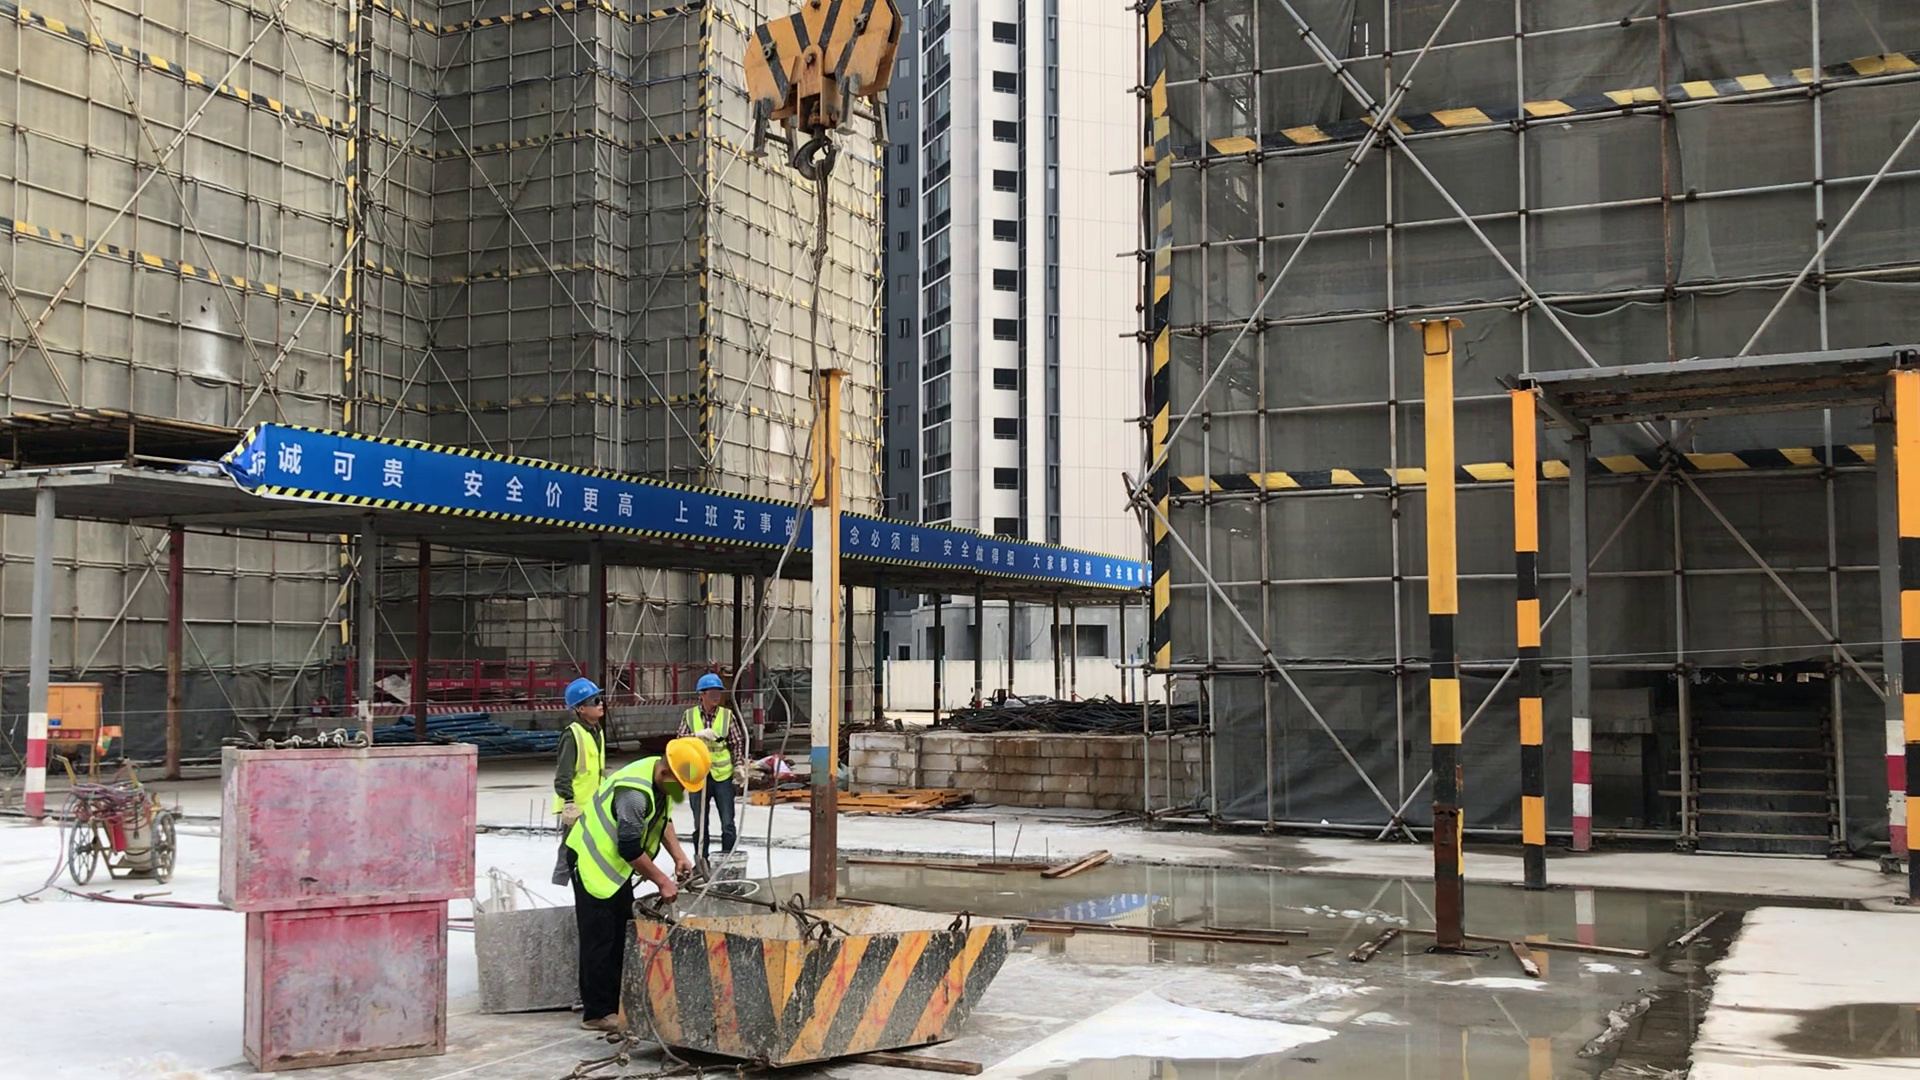ebox: (51, 680, 109, 783)
fence: (432, 657, 560, 716), (613, 657, 687, 706)
handcart: (47, 746, 180, 883)
helmet: (662, 735, 714, 793), (563, 677, 603, 707), (693, 672, 726, 697)
hook: (737, 2, 907, 185)
hopper: (630, 901, 1039, 1071), (458, 864, 565, 1019)
person: (570, 739, 717, 1026), (680, 672, 751, 852), (548, 678, 611, 837)
slogan: (266, 422, 808, 557), (851, 513, 1148, 591)
vest: (565, 756, 672, 905), (555, 720, 608, 814), (686, 704, 735, 781)
